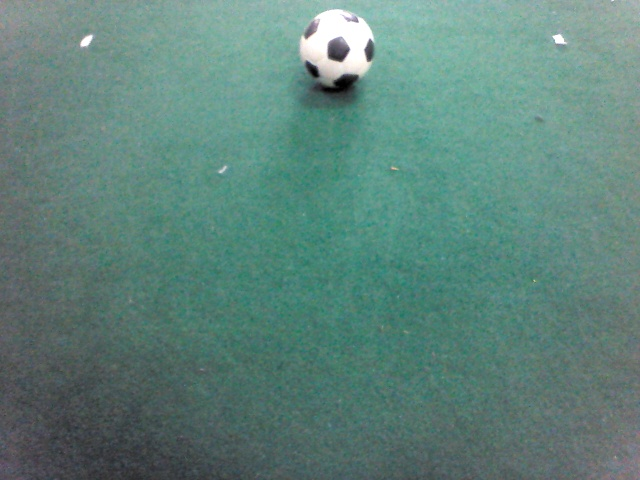ball: (300, 8, 378, 90)
